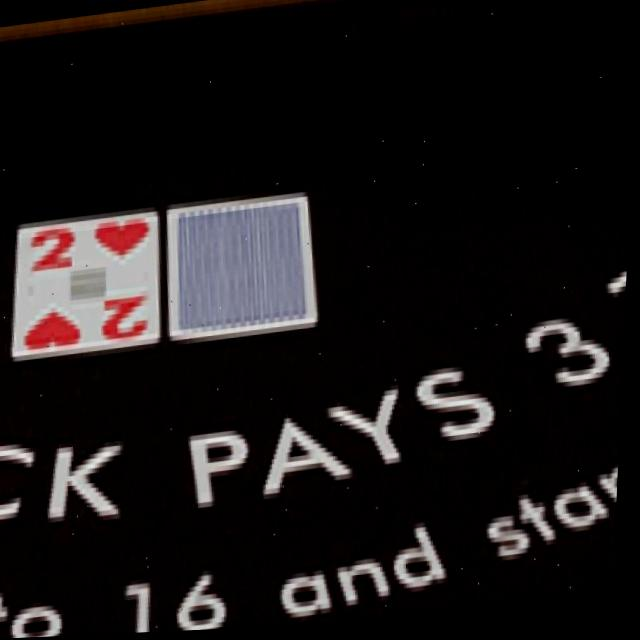Card-2: (17, 210, 163, 359)
